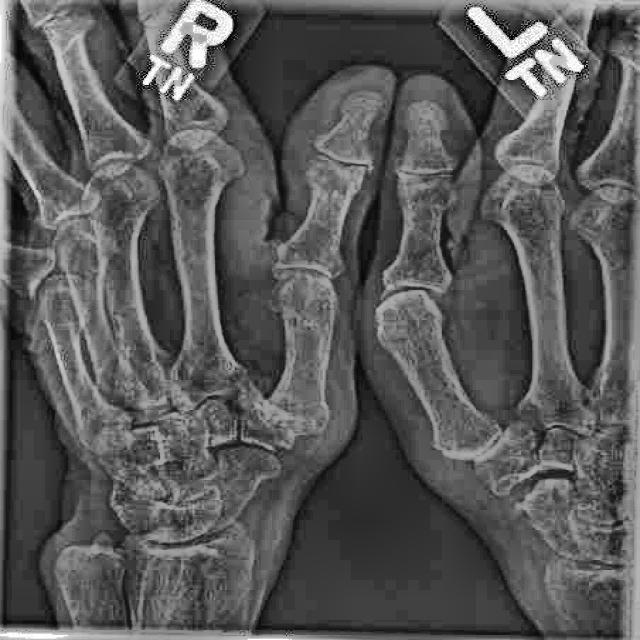fingers positive: (414, 413, 506, 441), (334, 81, 391, 119)
